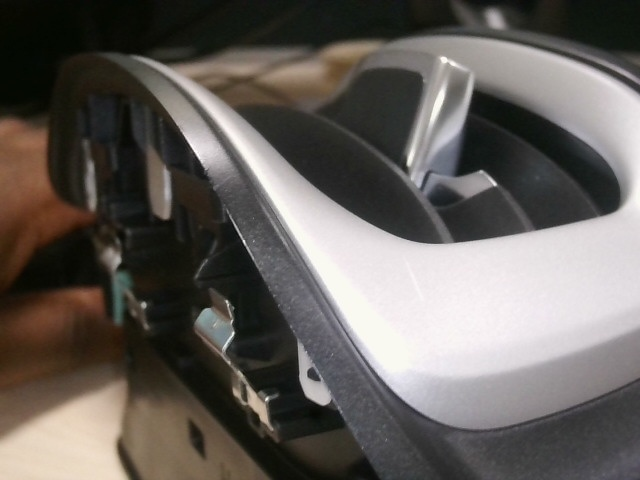NG: (397, 250, 438, 318), (201, 158, 248, 211)
